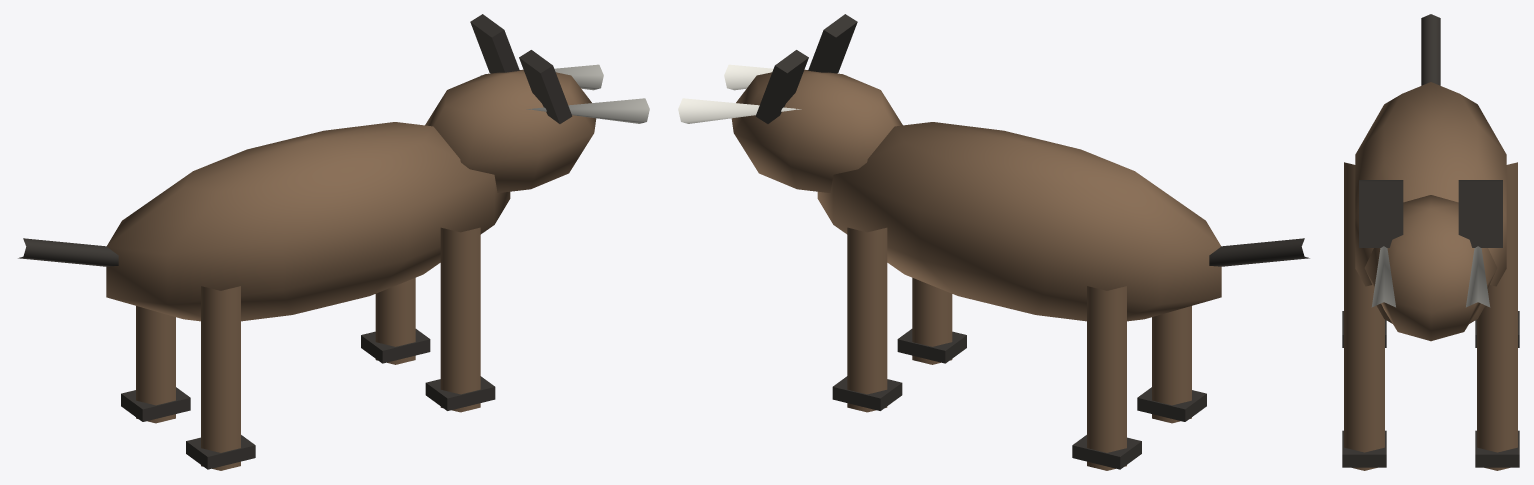
The model's file is cape_buffalo.glb.
The picture shows the model from 3 angles, left to right: view 1: azimuth 30°, elevation 25°; view 2: azimuth 150°, elevation 25°; view 3: azimuth 270°, elevation 25°; orthographic projection. The views are drawn at different scales.
Visible parts, largest first — view 1: cape_buffalo; view 2: cape_buffalo; view 3: cape_buffalo.
Boxes of the visible parts, bbox=[...] form: cape_buffalo: bbox=[18, 14, 649, 470]; cape_buffalo: bbox=[678, 14, 1309, 470]; cape_buffalo: bbox=[1342, 14, 1519, 470].
Bounding box in the file's own units: 2.84 × 1.42 × 0.704.
